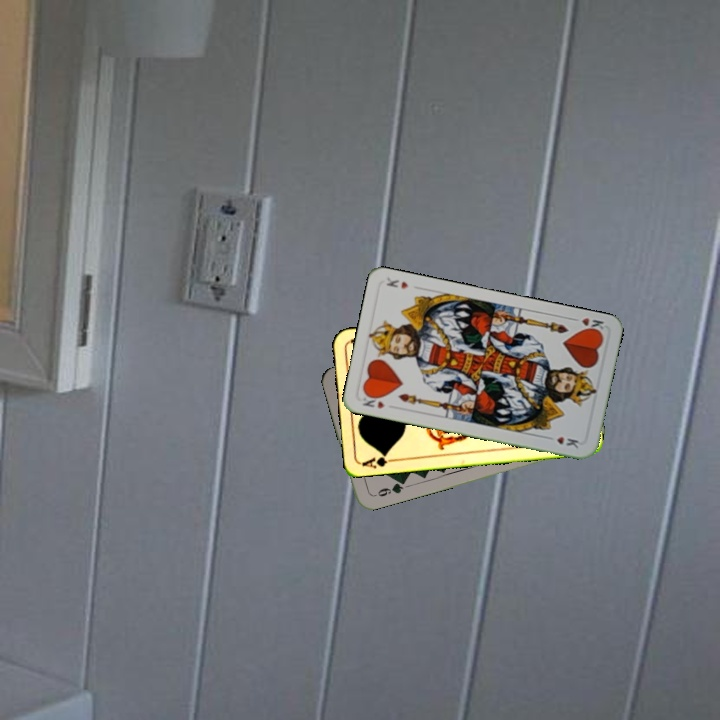G9: (368, 477, 407, 500)
GA: (359, 449, 399, 470)
HK: (567, 313, 607, 336), (358, 390, 387, 411)
